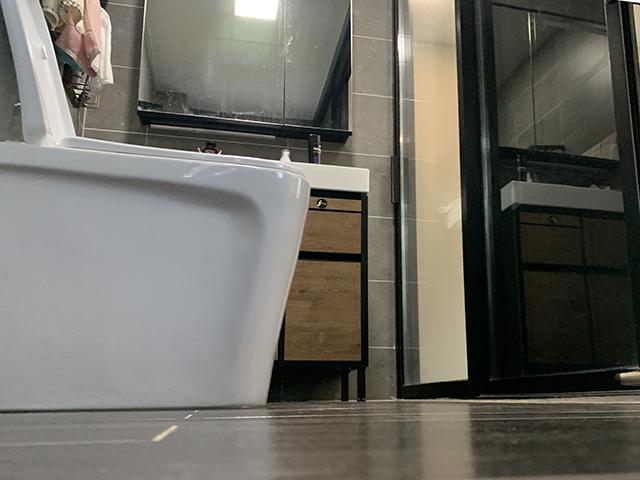cabinet: (276, 160, 371, 404)
closestool: (1, 1, 310, 411)
